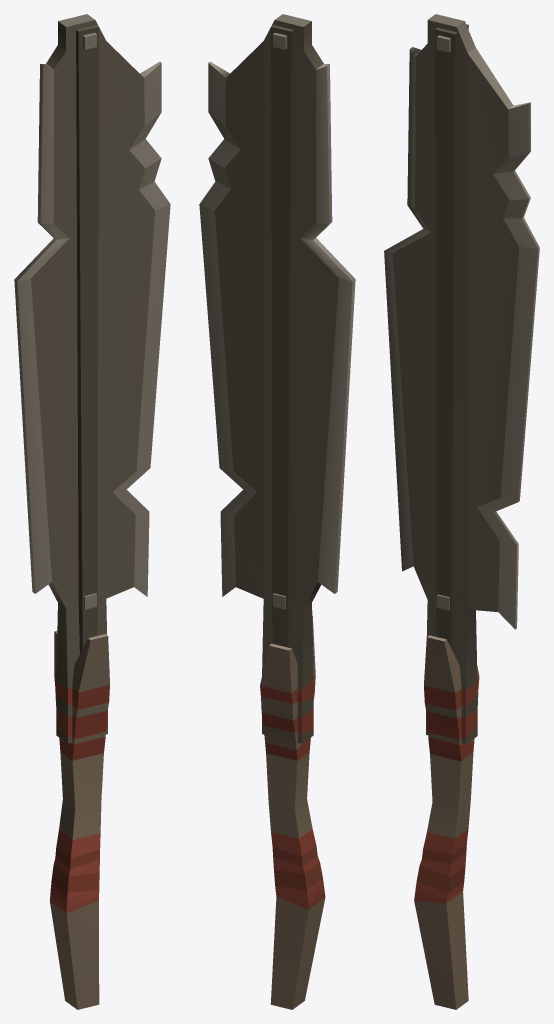
Rendered from SF_Wep_Goblin_Sweihander_01.fbx.
3 views of the same model, side by side, from view 1: azimuth 30°, elevation 25°; view 2: azimuth 150°, elevation 25°; view 3: azimuth 330°, elevation 25° (orthographic).
Parts seen in each view (by area): view 1: SF_Wep_Goblin_Sweihander_01; view 2: SF_Wep_Goblin_Sweihander_01; view 3: SF_Wep_Goblin_Sweihander_01.
Part boxes in pixels (left/top/right/bottom): SF_Wep_Goblin_Sweihander_01: left=14, top=14, right=170, bottom=1009; SF_Wep_Goblin_Sweihander_01: left=199, top=14, right=355, bottom=1009; SF_Wep_Goblin_Sweihander_01: left=384, top=14, right=539, bottom=1009.
Size of the model in its own units: 0.606 by 3.7 by 0.2038.
